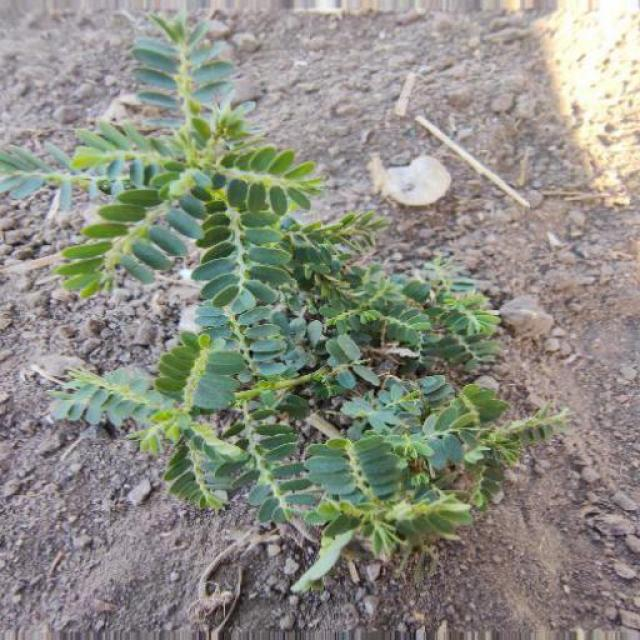weed: (36, 42, 555, 558)
